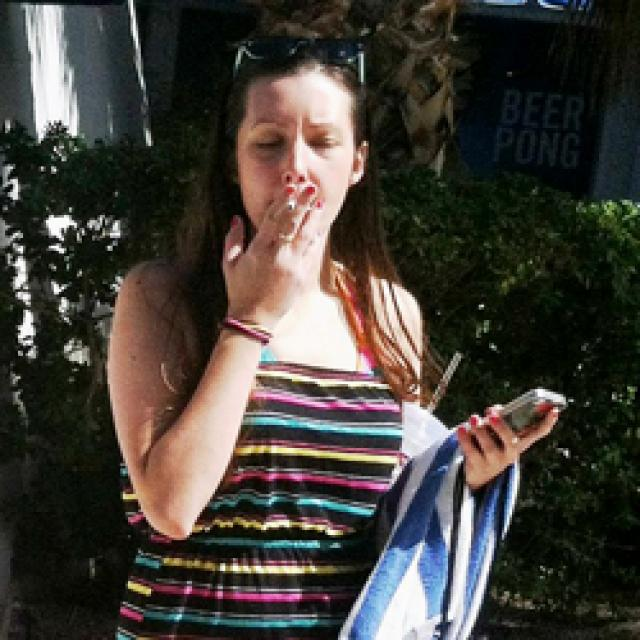Smooking: (276, 192, 308, 218)
